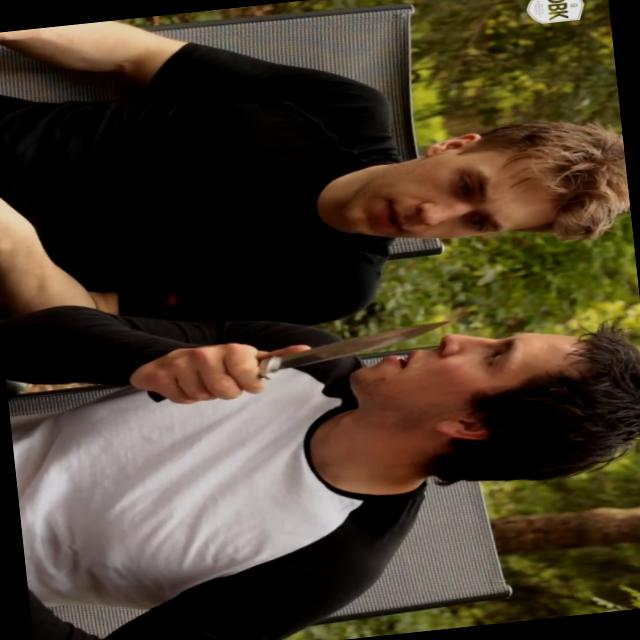knife: (130, 306, 473, 414)
